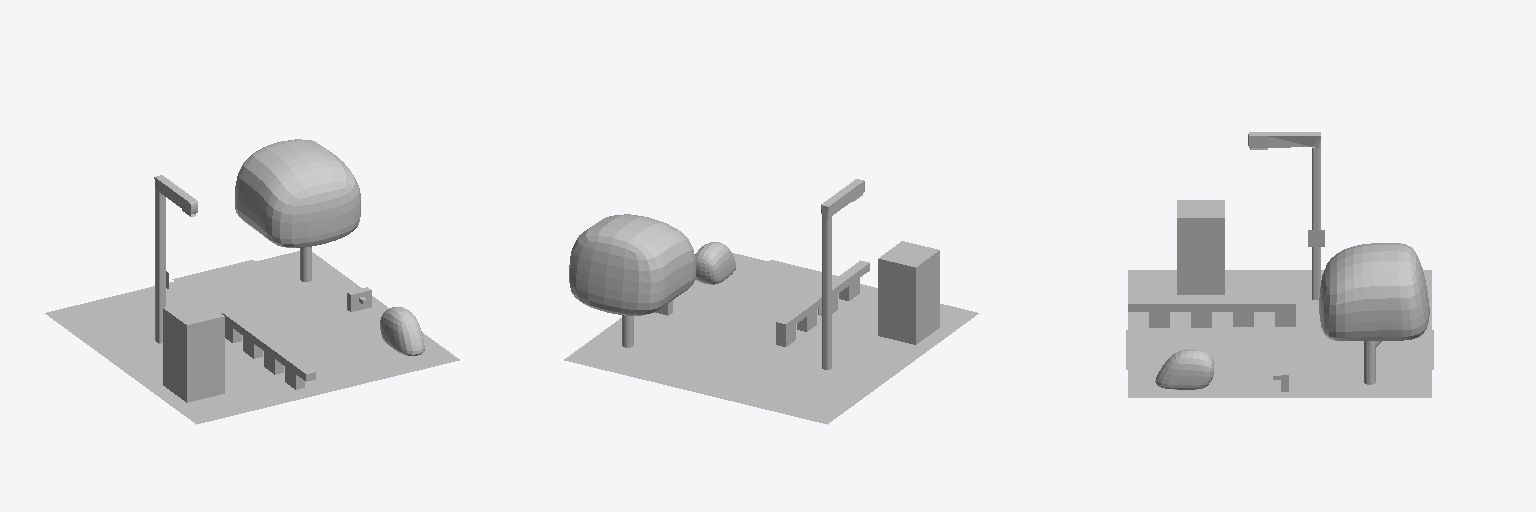
File: DioramaJapon.obj
3 views of the same model, side by side, from view 1: azimuth 30°, elevation 25°; view 2: azimuth 150°, elevation 25°; view 3: azimuth 270°, elevation 25° (orthographic).
Visible parts, largest first — view 1: Plane_Plane, Carretera_Plane.003, Arbol_Mesh, Maquina_expendedora_Cube.004, PasaManos_Cube.006, Poste_Cube.001, Arbusto_Mesh; view 2: Plane_Plane, Carretera_Plane.003, Arbol_Mesh, Maquina_expendedora_Cube.004, Poste_Cube.001, PasaManos_Cube.006, Arbusto_Mesh; view 3: Plane_Plane, Carretera_Plane.003, Arbol_Mesh, PasaManos_Cube.006, Maquina_expendedora_Cube.004, Poste_Cube.001, Arbusto_Mesh, Vidrio_Plane.002.
Boxes of the visible parts, box(x1,y1,x2,y2) form: Plane_Plane: box(45, 251, 459, 424); Carretera_Plane.003: box(172, 260, 405, 391); Arbol_Mesh: box(235, 139, 360, 247); Maquina_expendedora_Cube.004: box(163, 299, 224, 402); PasaManos_Cube.006: box(222, 310, 315, 389); Poste_Cube.001: box(154, 175, 197, 343); Arbusto_Mesh: box(380, 307, 424, 355); Plane_Plane: box(564, 253, 978, 424); Carretera_Plane.003: box(618, 260, 838, 391); Arbol_Mesh: box(569, 214, 695, 315); Maquina_expendedora_Cube.004: box(878, 241, 939, 344); Poste_Cube.001: box(821, 179, 864, 369); PasaManos_Cube.006: box(776, 260, 869, 346); Arbusto_Mesh: box(695, 242, 735, 284); Plane_Plane: box(1128, 270, 1431, 397); Carretera_Plane.003: box(1126, 330, 1433, 369); Arbol_Mesh: box(1319, 243, 1429, 340); PasaManos_Cube.006: box(1128, 300, 1295, 327); Maquina_expendedora_Cube.004: box(1177, 200, 1224, 294); Poste_Cube.001: box(1248, 132, 1320, 299); Arbusto_Mesh: box(1155, 349, 1213, 389); Vidrio_Plane.002: box(1184, 229, 1217, 284).
Size of the model in its own units: 14.38 by 8.51 by 14.12.